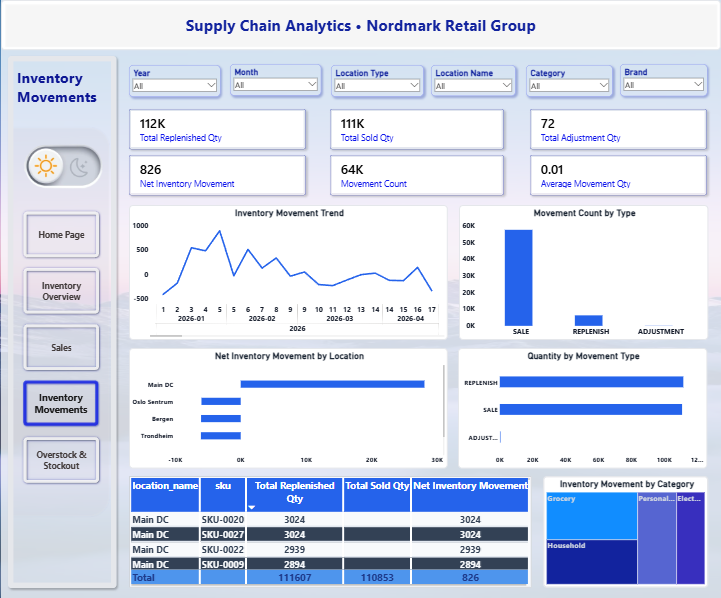

The dashboard page shown, as its layout file describes it:
{"tool":"powerbi","page":{"name":"Inventory Movements","canvas":[3600,3000],"ordinal":3},"visuals":[{"type":"slicer","fields":{"Values":["dim_date.Month (Short)"]},"box":[1142.7,322.7,456.4,158],"z":0,"group":"g3"},{"type":"group","id":"g1","title":"Group 2","box":[639.3,547.4,2887.8,200.9],"z":0,"group":"g4"},{"type":"cardVisual","fields":{"Data":["A Measures.Total Replenished Qty"]},"box":[639.3,547.4,883.6,200.9],"z":0,"group":"g1"},{"type":"cardVisual","fields":{"Data":["A Measures.Net Inventory Movement"]},"box":[639.3,776.6,883.6,200.9],"z":0,"group":"g2"},{"type":"slicer","fields":{"Values":["silver__location_master__lite.location_name"]},"box":[2152.2,325.8,423.3,155],"z":1000,"group":"g3"},{"type":"cardVisual","fields":{"Data":["A Measures.Total Sold Qty"]},"box":[1646.3,547.4,868.8,200.9],"z":1000,"group":"g1"},{"type":"shape","box":[33.7,632.2,515,1960],"z":1000},{"type":"group","id":"g2","title":"Group 2","box":[639.3,776.6,2887.8,200.9],"z":1000,"group":"g4"},{"type":"cardVisual","fields":{"Data":["A Measures.Movement Count"]},"box":[1646.3,776.6,868.8,200.9],"z":1000,"group":"g2"},{"type":"slicer","fields":{"Values":["silver__product_master__lite.brand"]},"box":[3094.7,321.7,436.5,161],"z":2000,"group":"g3"},{"type":"cardVisual","fields":{"Data":["A Measures.Total Adjustment Qty"]},"box":[2643.5,547.4,883.6,200.9],"z":2000,"group":"g1"},{"type":"cardVisual","fields":{"Data":["A Measures.Average Movement Qty"]},"box":[2643.5,776.6,883.6,200.9],"z":2000,"group":"g2"},{"type":"shape","box":[33.7,280.5,542.4,2659.6],"z":3000},{"type":"slicer","fields":{"Values":["silver__product_master__lite.category"]},"box":[2625.1,325.8,433.2,158],"z":3000,"group":"g3"},{"type":"slicer","fields":{"Values":["dim_date.Year"]},"box":[639.7,325.8,457.4,159.4],"z":4000,"group":"g3"},{"type":"group","id":"g3","title":"Group 1","box":[639.7,321.7,2891.5,157.1],"z":5000},{"type":"slicer","fields":{"Values":["silver__location_master__lite.location_type"]},"box":[1648.4,325.8,463,158],"z":5000,"group":"g3"},{"type":"pageNavigator","box":[99.9,1042.8,403.6,1386.5],"z":7000},{"type":"image","box":[41.1,669.6,540,300],"z":8000},{"type":"shape","box":[0,0,3598.5,250.6],"z":9000},{"type":"group","id":"g4","title":"Group 3","box":[639.3,547.4,2884.8,431.5],"z":22000},{"type":"clusteredColumnChart","title":"Movement Count by Type","fields":{"Category":["silver__inventory_movements__lite.movement_type"],"Y":["A Measures.Movement Count"]},"box":[2289.5,1026.9,1246.6,675.2],"z":23000},{"type":"lineChart","title":"Inventory Movement Trend","fields":{"Category":["dim_date.Year","dim_date.Year-Month","dim_date.ISO Week Number"],"Y":["A Measures.Net Inventory Movement"]},"box":[639.3,1026.9,1594.2,675.2],"z":24000},{"type":"treemap","title":"Inventory Movement by Category","fields":{"Group":["silver__product_master__lite.category"],"Values":["A Measures.Movement Count"]},"box":[2709,2381.4,827.1,559.4],"z":25000},{"type":"tableEx","fields":{"Values":["silver__location_master__lite.location_name","silver__product_master__lite.sku","A Measures.Total Replenished Qty","A Measures.Total Sold Qty","A Measures.Net Inventory Movement"]},"box":[639.3,2381.4,2013.8,559.4],"z":26000},{"type":"clusteredBarChart","title":"Net Inventory Movement by Location","fields":{"Category":["silver__location_master__lite.location_name"],"Y":["A Measures.Net Inventory Movement"]},"box":[639.3,1738.1,1594.2,603.3],"z":27000},{"type":"clusteredBarChart","title":"Quantity by Movement Type","fields":{"Category":["silver__inventory_movements__lite.movement_type"],"Y":["A Measures.ABS Qty"]},"box":[2285.5,1738.1,1246.6,603.3],"z":28000},{"type":"textbox","box":[75.9,327.6,443.5,319.6],"z":29000}]}

Visuals, with their boxes in screenshot pixels (x1, y1, x2, y2), scaled from the page's 3600x3000 canvas onto the 721x598 screenshot:
slicer - dim_date.Month (Short): Rect(229, 64, 320, 96)
"Group 2" group: Rect(128, 109, 706, 149)
cardVisual - A Measures.Total Replenished Qty: Rect(128, 109, 305, 149)
cardVisual - A Measures.Net Inventory Movement: Rect(128, 155, 305, 195)
slicer - silver__location_master__lite.location_name: Rect(431, 65, 516, 96)
cardVisual - A Measures.Total Sold Qty: Rect(330, 109, 504, 149)
shape: Rect(7, 126, 110, 517)
"Group 2" group: Rect(128, 155, 706, 195)
cardVisual - A Measures.Movement Count: Rect(330, 155, 504, 195)
slicer - silver__product_master__lite.brand: Rect(620, 64, 707, 96)
cardVisual - A Measures.Total Adjustment Qty: Rect(529, 109, 706, 149)
cardVisual - A Measures.Average Movement Qty: Rect(529, 155, 706, 195)
shape: Rect(7, 56, 115, 586)
slicer - silver__product_master__lite.category: Rect(526, 65, 613, 96)
slicer - dim_date.Year: Rect(128, 65, 220, 97)
"Group 1" group: Rect(128, 64, 707, 95)
slicer - silver__location_master__lite.location_type: Rect(330, 65, 423, 96)
pageNavigator: Rect(20, 208, 101, 484)
image: Rect(8, 133, 116, 193)
shape: Rect(0, 0, 720, 50)
"Group 3" group: Rect(128, 109, 706, 195)
"Movement Count by Type" clusteredColumnChart: Rect(459, 205, 708, 339)
"Inventory Movement Trend" lineChart: Rect(128, 205, 447, 339)
"Inventory Movement by Category" treemap: Rect(543, 475, 708, 586)
tableEx - silver__location_master__lite.location_name x silver__product_master__lite.sku: Rect(128, 475, 531, 586)
"Net Inventory Movement by Location" clusteredBarChart: Rect(128, 346, 447, 467)
"Quantity by Movement Type" clusteredBarChart: Rect(458, 346, 707, 467)
textbox: Rect(15, 65, 104, 129)
